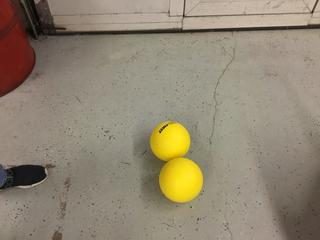power_cell: (157, 159, 206, 203), (147, 119, 191, 161)
